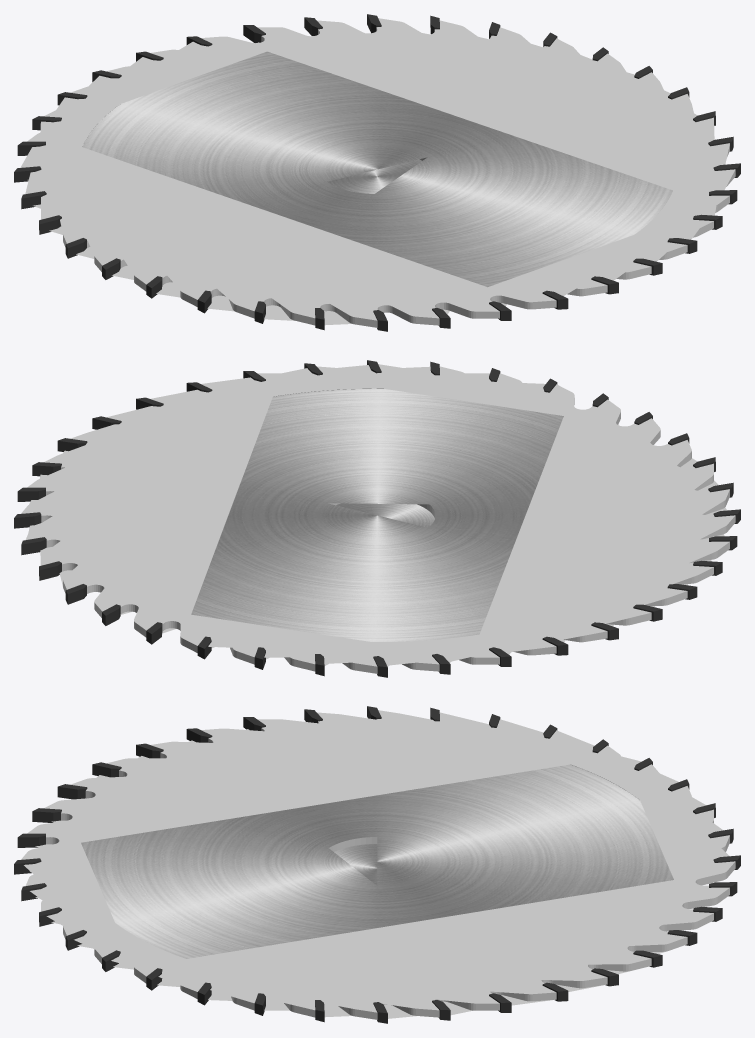
File: BLADE1.fbx
The picture shows the model from 3 angles, top to bottom: view 1: azimuth 30°, elevation 25°; view 2: azimuth 150°, elevation 25°; view 3: azimuth 270°, elevation 25°; orthographic projection.
Parts seen in each view (by area): view 1: Circular saw blade; view 2: Circular saw blade; view 3: Circular saw blade.
Boxes of the visible parts, x1,y1,x2,y2 form: Circular saw blade: (14, 14, 740, 331); Circular saw blade: (14, 360, 740, 677); Circular saw blade: (14, 706, 740, 1023).
Size of the model in its own units: 20 by 0.32 by 20.
